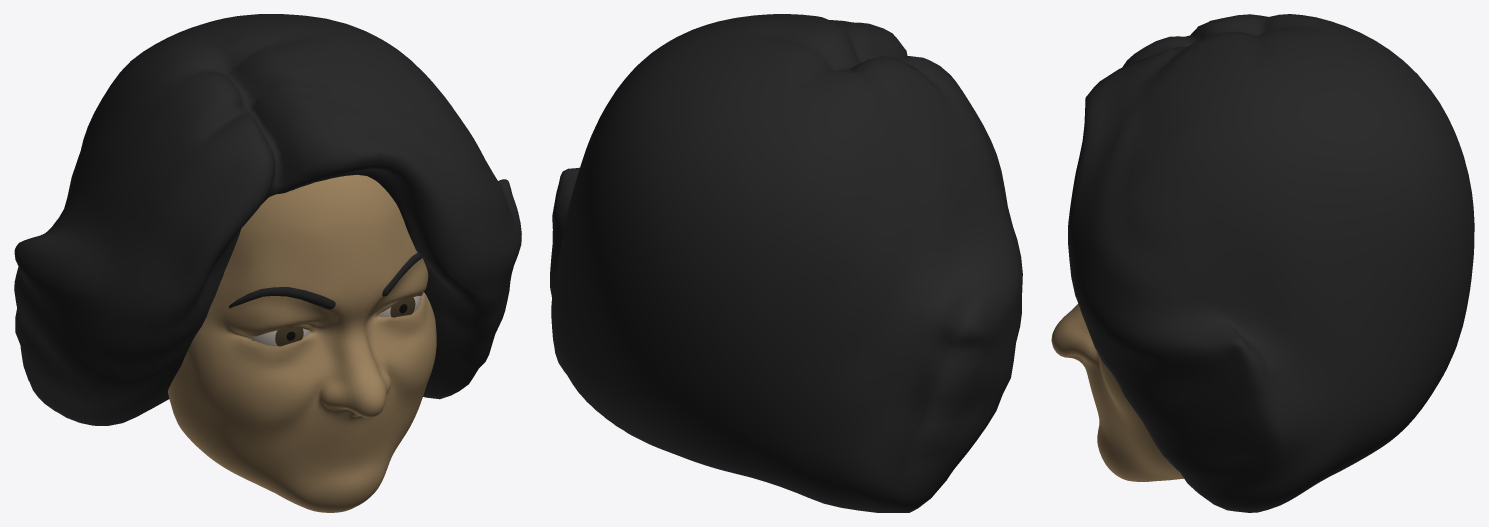
The model's file is head.fbx.
3 renders of one model, left to right at view 1: azimuth 30°, elevation 25°; view 2: azimuth 150°, elevation 25°; view 3: azimuth 270°, elevation 25°, orthographic. The views are drawn at different scales.
Parts seen in each view (by area): view 1: Head; view 2: Head; view 3: Head.
Part boxes in pixels (x1,y1,x2,y2): Head: [14, 14, 521, 512]; Head: [550, 14, 1022, 512]; Head: [1051, 14, 1474, 512].
Size of the model in its own units: 44.43 by 40.76 by 35.96.
Materials: 1 (1 with a texture image).
